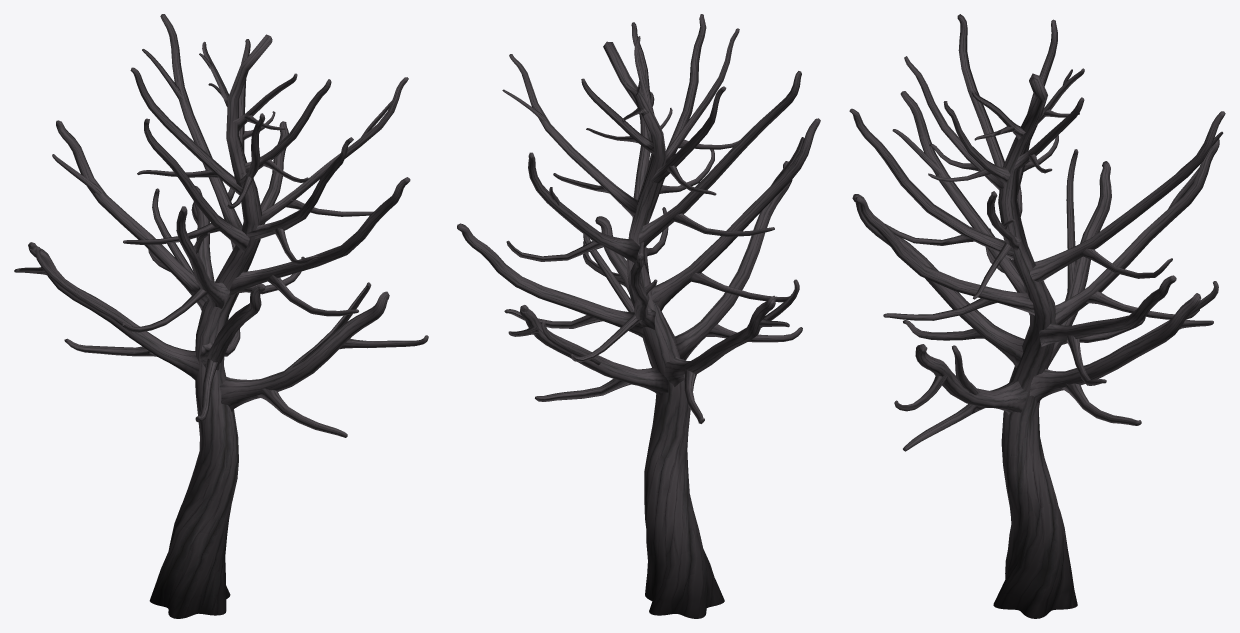
Rendered from DeadTree_1.gltf.
3 renders of one model, left to right at view 1: azimuth 30°, elevation 25°; view 2: azimuth 150°, elevation 25°; view 3: azimuth 270°, elevation 25°, orthographic. The views are drawn at different scales.
Visible parts, largest first — view 1: DeadTree_1; view 2: DeadTree_1; view 3: DeadTree_1.
Boxes of the visible parts, <box> form: DeadTree_1: <box>14,14,428,618</box>; DeadTree_1: <box>457,14,820,618</box>; DeadTree_1: <box>849,14,1225,618</box>.
Size of the model in its own units: 6.15 by 9.5 by 5.75.
Materials: 1 (1 with a texture image).
